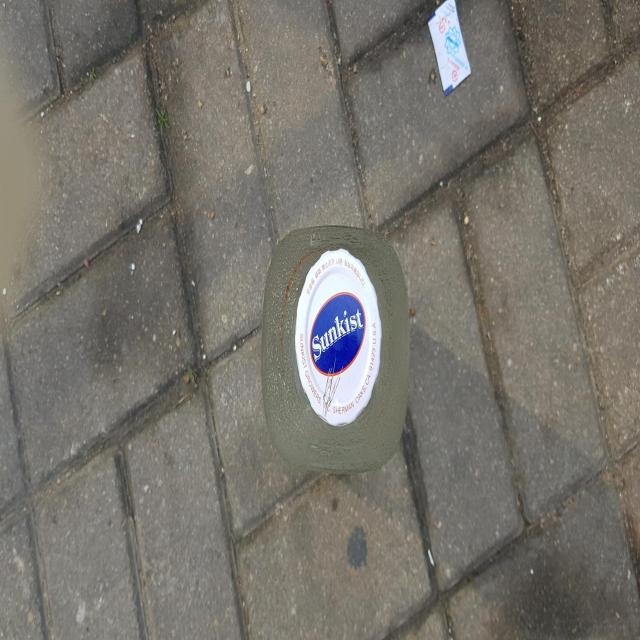glass: (262, 224, 410, 473)
